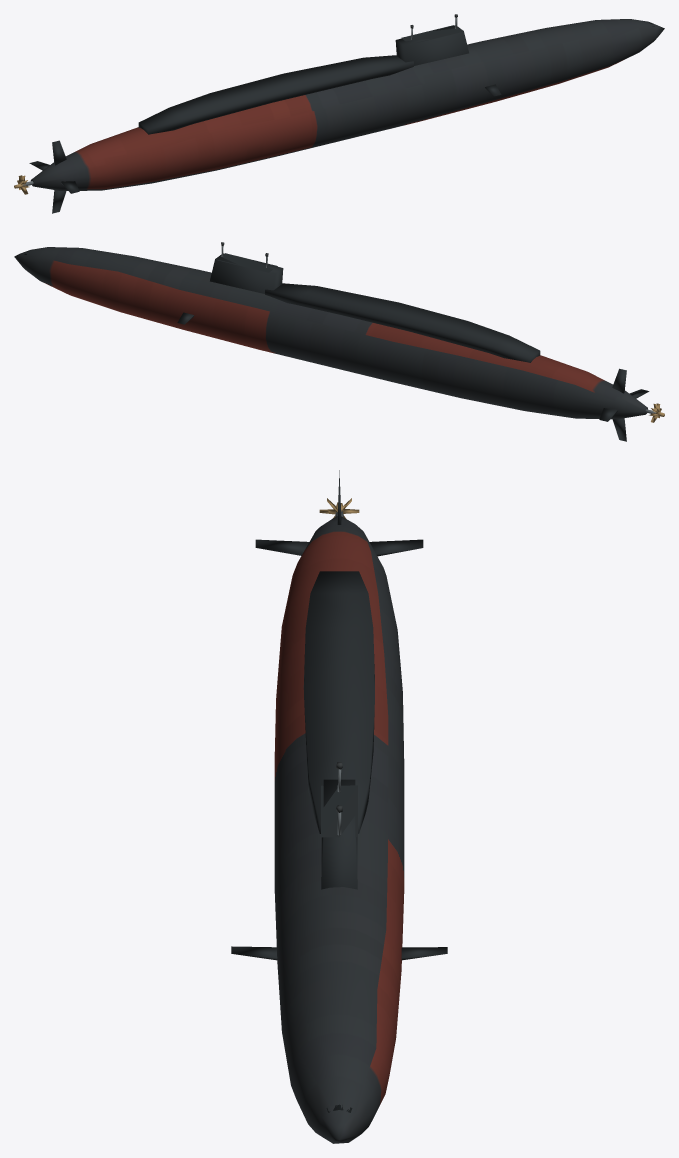
The model's file is RU_SSBN_Yankee_LOD3.fbx.
3 views of the same model, one above another, from view 1: azimuth 30°, elevation 25°; view 2: azimuth 150°, elevation 25°; view 3: azimuth 270°, elevation 25° (orthographic). The views are drawn at different scales.
Visible parts, largest first — view 1: RU_SSBN_Yankee_LOD3; view 2: RU_SSBN_Yankee_LOD3; view 3: RU_SSBN_Yankee_LOD3.
Part boxes in pixels (bbox=[...]): RU_SSBN_Yankee_LOD3: bbox=[14, 14, 664, 213]; RU_SSBN_Yankee_LOD3: bbox=[14, 242, 664, 441]; RU_SSBN_Yankee_LOD3: bbox=[231, 470, 447, 1143].
Bounding box in the file's own units: 136 × 19.56 × 20.03.
6 materials, 1 textured.
